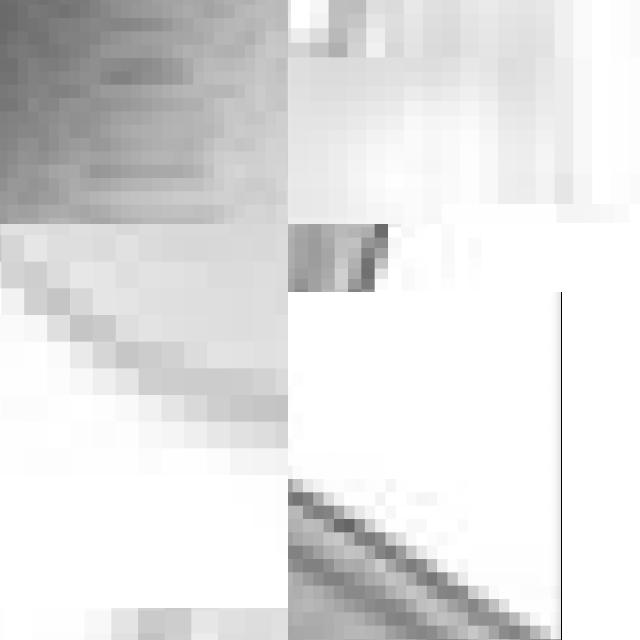forks: (0, 224, 288, 640), (288, 239, 509, 640)
spoons: (0, 0, 288, 224)
